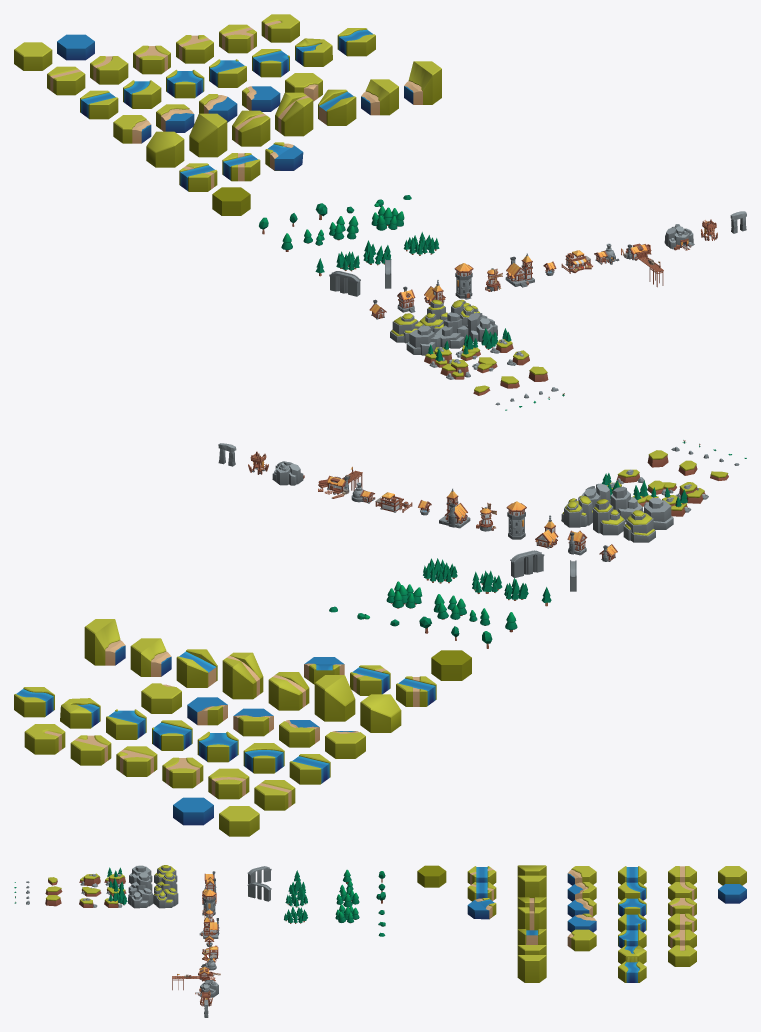
Rendered from hex-terrain.glb.
3 renders of one model, top to bottom at view 1: azimuth 30°, elevation 25°; view 2: azimuth 150°, elevation 25°; view 3: azimuth 270°, elevation 25°, orthographic. The views are drawn at different scales.
Visible parts, largest first — view 1: hex_road_A_sloped_high, hex_grass_sloped_high, coast_slope_high, hex_road_A_sloped_low, hex_grass_sloped_low, river_slope_low, coast_slope_low, hex_road_A, hex_grass_bottom, hex_river_A, hex_road_F, hex_grass (+24 smaller); view 2: hex_road_A_sloped_high, hex_grass_sloped_high, coast_slope_high, hex_road_A_sloped_low, hex_grass_sloped_low, river_slope_low, coast_slope_low, hex_road_B, hex_road_D, hex_river_B, hex_road_A, hex_road_M (+28 smaller); view 3: coast_slope_high, hex_grass_sloped_high, hex_road_A_sloped_high, hex_grass_bottom, hex_coast_E, hex_road_M, hex_river_A_curvy, river_coast, mountain_C_grass, mountain_C, hex_water, hex_grass (+31 smaller).
Boxes of the visible parts, left/top/right/bottom form: hex_road_A_sloped_high: left=275, top=92, right=313, bottom=136; hex_grass_sloped_high: left=189, top=113, right=227, bottom=157; coast_slope_high: left=404, top=61, right=441, bottom=104; hex_road_A_sloped_low: left=232, top=110, right=270, bottom=146; hex_grass_sloped_low: left=146, top=131, right=184, bottom=167; river_slope_low: left=318, top=89, right=356, bottom=125; coast_slope_low: left=361, top=79, right=398, bottom=115; hex_road_A: left=47, top=66, right=85, bottom=95; hex_grass_bottom: left=212, top=187, right=250, bottom=215; hex_river_A: left=80, top=90, right=118, bottom=119; hex_road_F: left=219, top=24, right=256, bottom=53; hex_grass: left=14, top=42, right=52, bottom=70; hex_road_A_sloped_high: left=222, top=652, right=263, bottom=699; hex_grass_sloped_high: left=314, top=675, right=355, bottom=721; coast_slope_high: left=84, top=619, right=125, bottom=665; hex_road_A_sloped_low: left=268, top=672, right=309, bottom=710; hex_grass_sloped_low: left=360, top=694, right=401, bottom=732; river_slope_low: left=176, top=649, right=217, bottom=687; coast_slope_low: left=130, top=638, right=171, bottom=676; hex_road_B: left=208, top=768, right=249, bottom=799; hex_road_D: left=162, top=757, right=203, bottom=788; hex_river_B: left=243, top=743, right=284, bottom=773; hex_road_A: left=254, top=780, right=295, bottom=810; hex_road_M: left=24, top=724, right=65, bottom=754; coast_slope_high: left=517, top=955, right=546, bottom=982; hex_grass_sloped_high: left=517, top=875, right=546, bottom=897; hex_road_A_sloped_high: left=517, top=907, right=546, bottom=930; hex_grass_bottom: left=417, top=865, right=446, bottom=887; hex_coast_E: left=567, top=929, right=596, bottom=951; hex_road_M: left=668, top=945, right=696, bottom=966; hex_river_A_curvy: left=618, top=961, right=646, bottom=982; river_coast: left=467, top=898, right=496, bottom=919; mountain_C_grass: left=153, top=884, right=178, bottom=908; mountain_C: left=128, top=885, right=153, bottom=908; hex_water: left=718, top=884, right=746, bottom=903; hex_grass: left=718, top=866, right=746, bottom=885.
Size of the model in its own units: 26.56 by 3.19 by 58.51.
2 materials, 2 textured.
